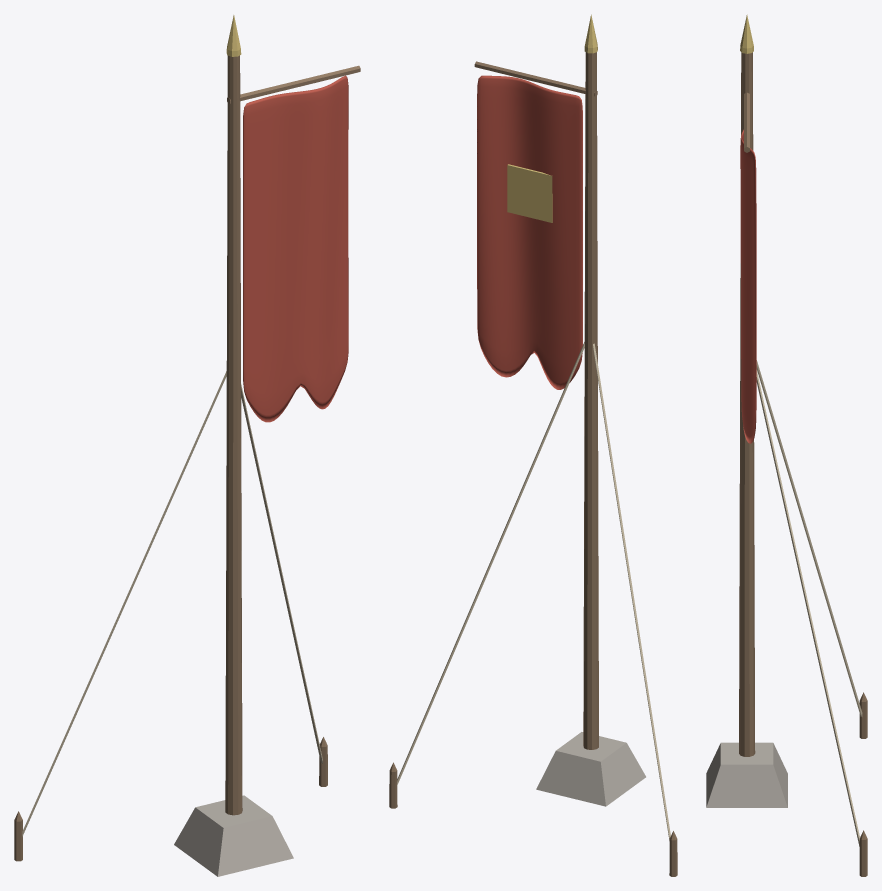
3 views of the same model, side by side, from view 1: azimuth 30°, elevation 25°; view 2: azimuth 150°, elevation 25°; view 3: azimuth 270°, elevation 25° (orthographic). The views are drawn at different scales.
Parts seen in each view (by area): view 1: C05_旗_幡, C05_旗_杆, C05_旗_座, C05_拉绳, C05_旗_横杆, C05_地桩; view 2: C05_旗_幡, C05_旗_杆, C05_旗_座, C05_拉绳, C05_旗_徽, C05_旗_横杆, C05_地桩; view 3: C05_旗_杆, C05_旗_座, C05_旗_幡, C05_拉绳, C05_地桩, C05_旗_横杆, C05_旗_顶.
Part boxes in pixels (x1,y1,x2,y2): C05_旗_幡: (243,75,348,422); C05_旗_杆: (225,55,242,815); C05_旗_座: (174,795,293,876); C05_拉绳: (22,371,322,836); C05_旗_横杆: (227,65,360,103); C05_地桩: (14,737,327,861); C05_旗_幡: (477,75,582,389); C05_旗_杆: (583,52,598,749); C05_旗_座: (536,732,645,806); C05_拉绳: (397,341,670,840); C05_旗_徽: (507,164,552,222); C05_旗_横杆: (474,61,597,96); C05_地桩: (389,762,677,876); C05_旗_杆: (739,52,755,756); C05_旗_座: (706,742,787,807); C05_旗_幡: (740,129,756,443); C05_拉绳: (756,360,862,846); C05_地桩: (859,692,867,876); C05_旗_横杆: (744,92,749,152); C05_旗_顶: (740,14,753,53).
Size of the model in its own units: 286 by 750 by 138.
